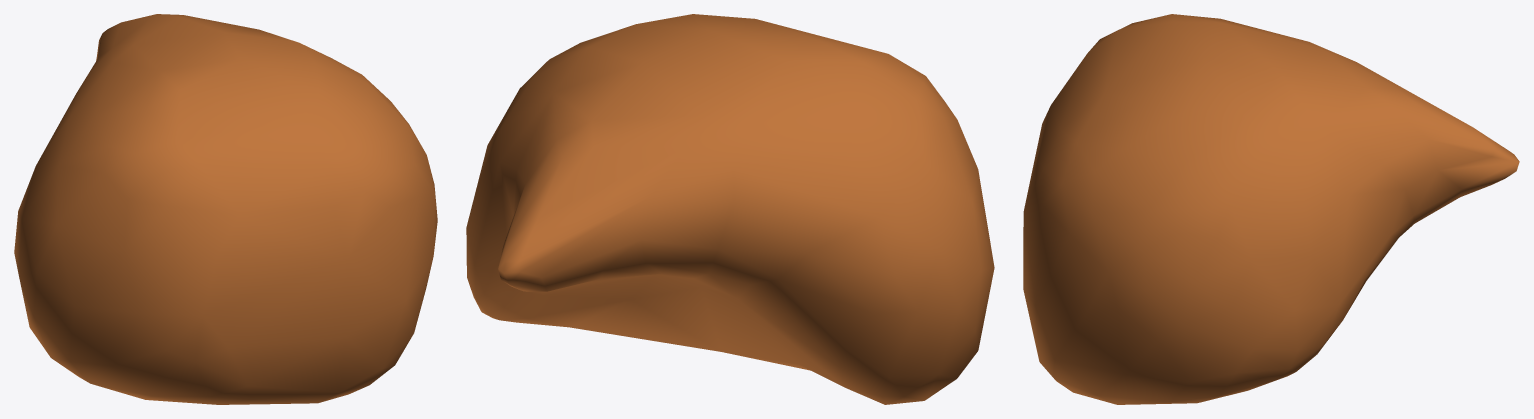
Rendered from Amygdaloid_body_left.glb.
3 views of the same model, side by side, from view 1: azimuth 30°, elevation 25°; view 2: azimuth 150°, elevation 25°; view 3: azimuth 270°, elevation 25° (orthographic). The views are drawn at different scales.
Visible parts, largest first — view 1: Amygdaloid_body.l_grp1.122; view 2: Amygdaloid_body.l_grp1.122; view 3: Amygdaloid_body.l_grp1.122.
Boxes of the visible parts, left/top/right/bottom form: Amygdaloid_body.l_grp1.122: left=14, top=14, right=437, bottom=404; Amygdaloid_body.l_grp1.122: left=466, top=14, right=994, bottom=404; Amygdaloid_body.l_grp1.122: left=1023, top=14, right=1519, bottom=404.
Bounding box in the file's own units: 0.0165 × 0.0124 × 0.0178.
